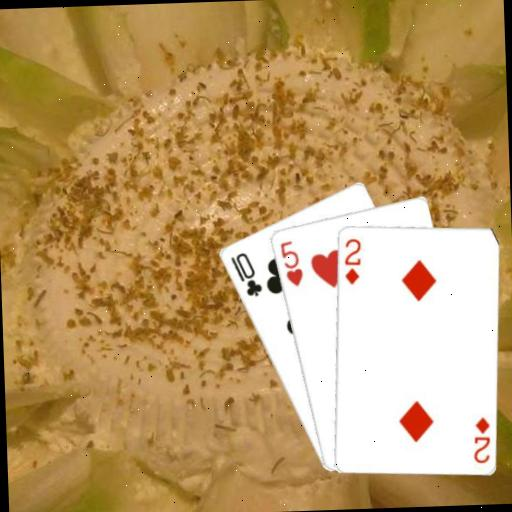10C: (227, 248, 264, 298)
2D: (469, 413, 492, 465), (339, 234, 362, 285)
5H: (276, 236, 304, 288)
